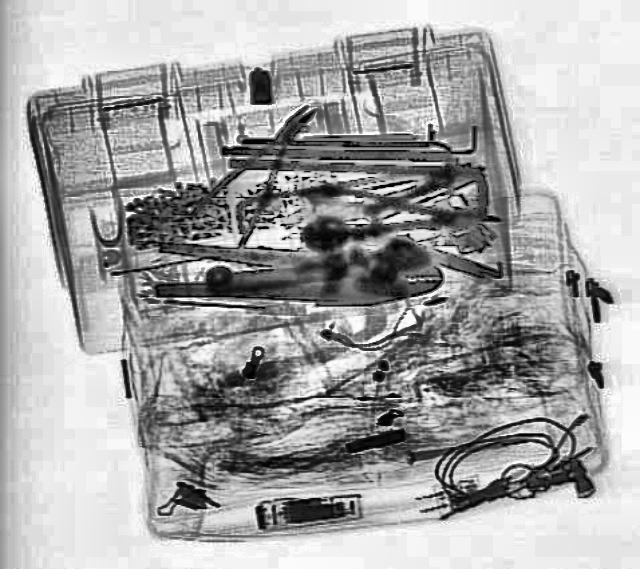Pliers: (180, 90, 336, 250), (150, 238, 446, 312), (294, 184, 500, 246)
